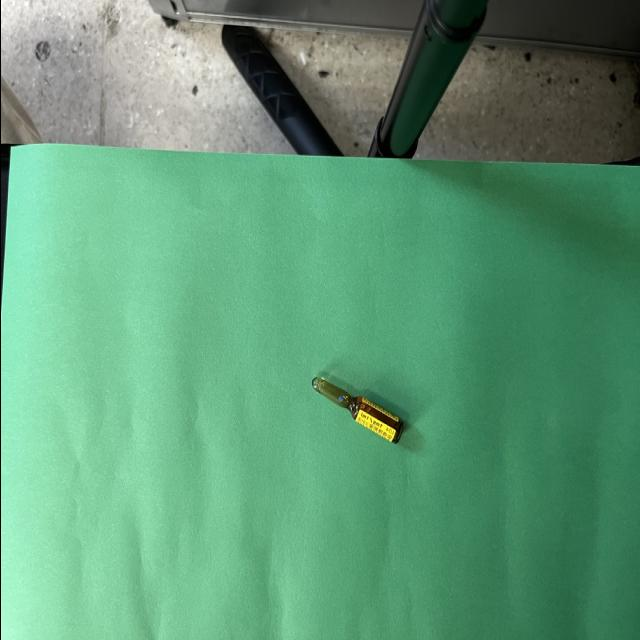Ampoules: (311, 377, 402, 442)
